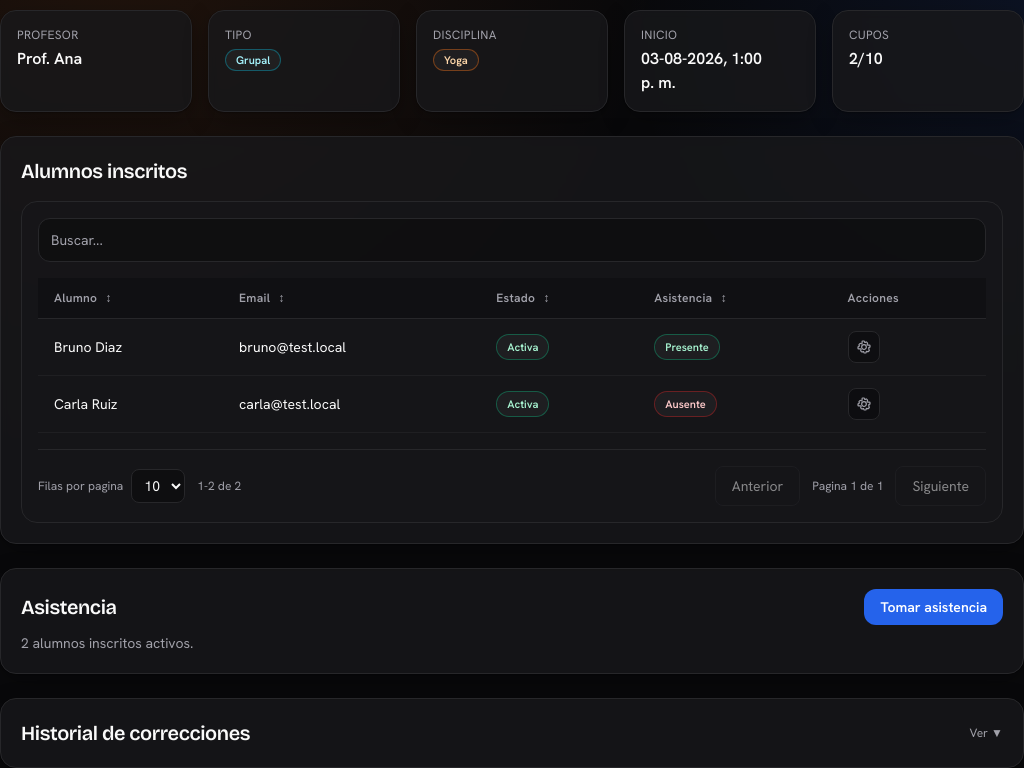
GymAdminClassDetailPage — guardar asistencia (#10.2) › permite buscar alumnos por nombre dentro del modal de asistencia
(page scrolled)
Step 1. Click the button "Tomar asistencia" → (934, 607), box [864,589,1003,625]
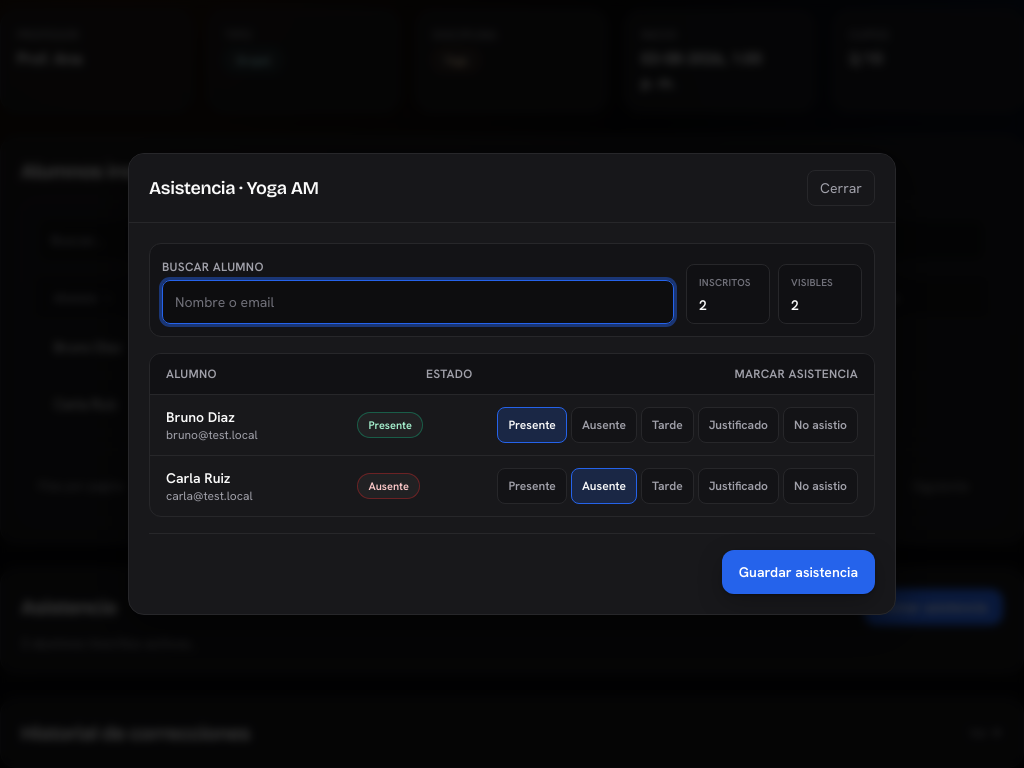
Check: the dialog "Asistencia" is shown
Step 2. Type "Carla" into the field labelled "Buscar alumno" → (418, 302), box [162,280,674,324]
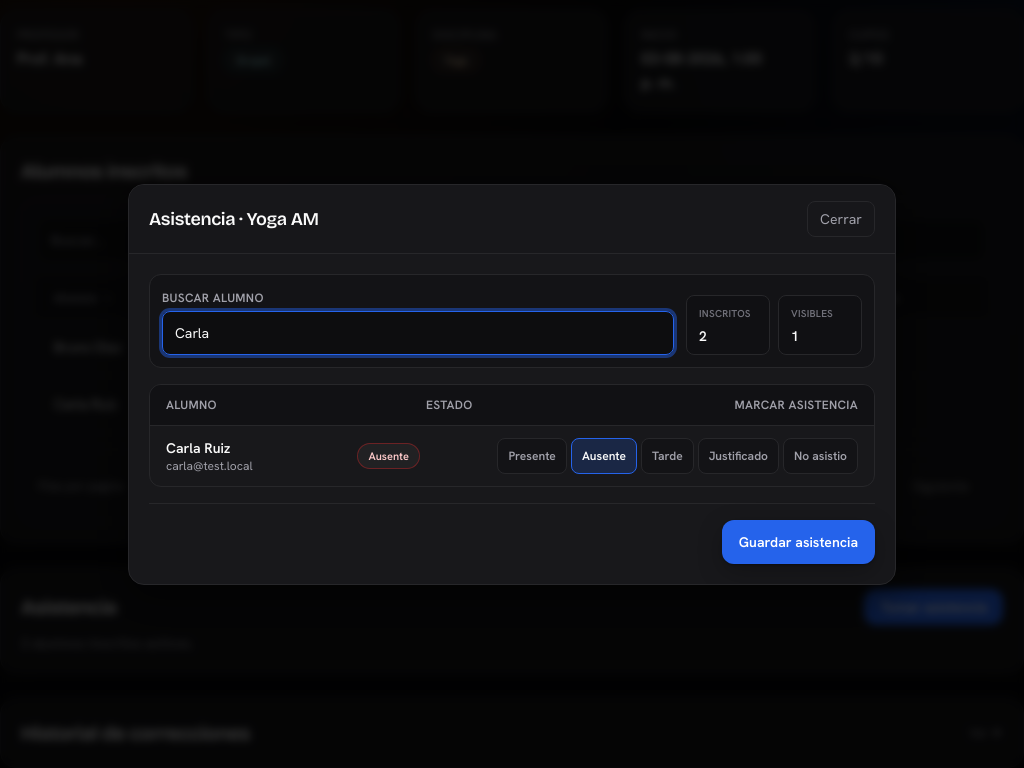
Check: the text "Carla Ruiz" is shown, box [166,438,230,456]
Check: the text "Visibles" is shown, box [791,306,833,320]
Check: the text "1" is shown, box [791,326,799,344]
